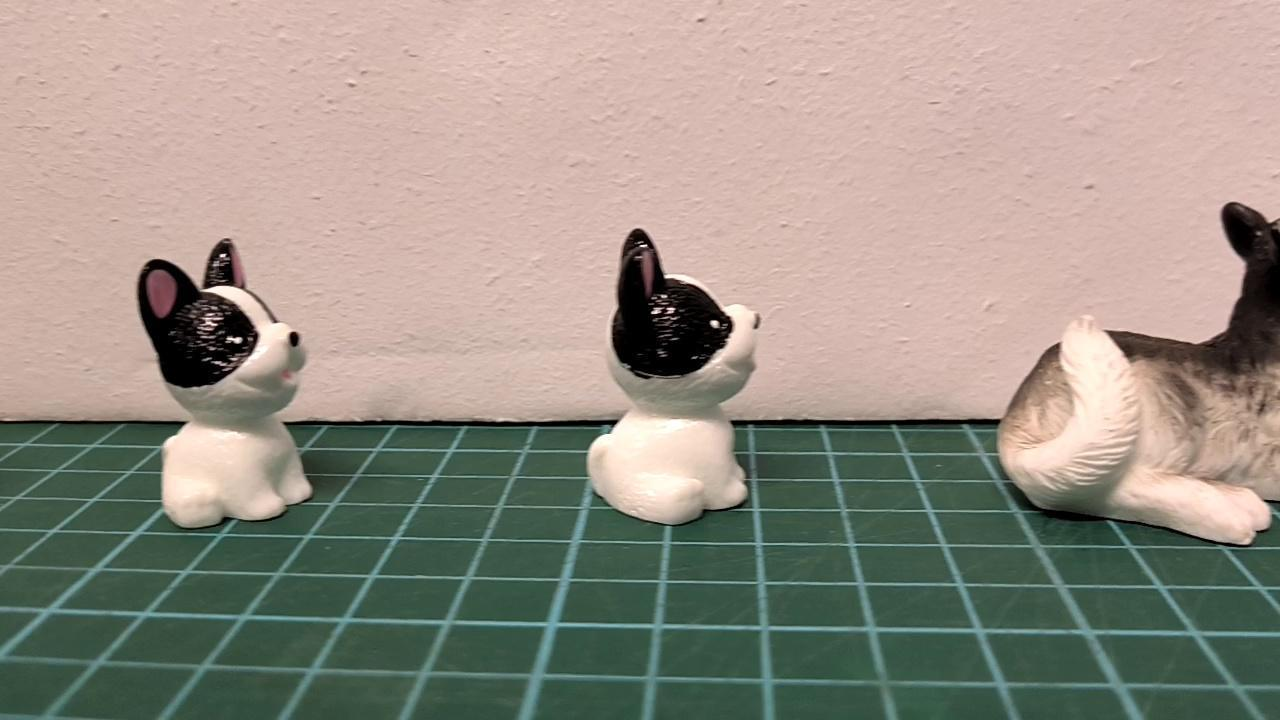pet: (998, 203, 1280, 543), (137, 237, 315, 532), (587, 228, 760, 526)
